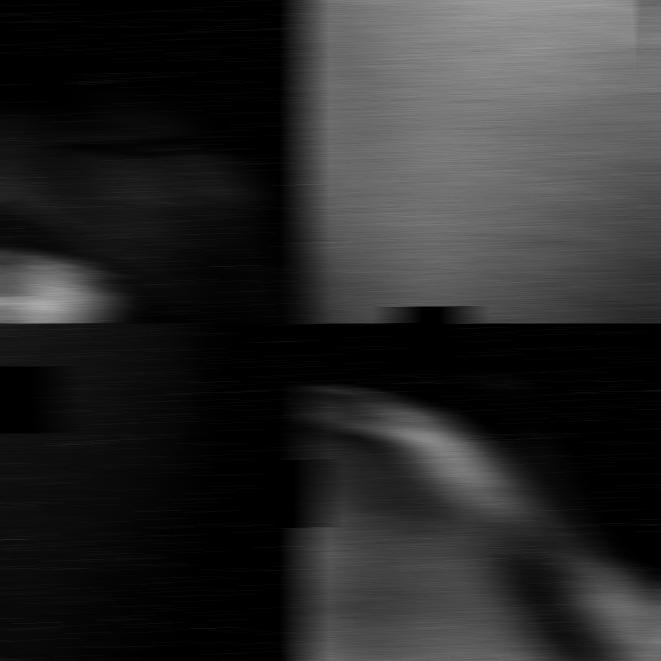Airbag: (298, 323, 661, 661), (298, 0, 661, 323), (0, 323, 310, 661), (0, 0, 310, 323)
